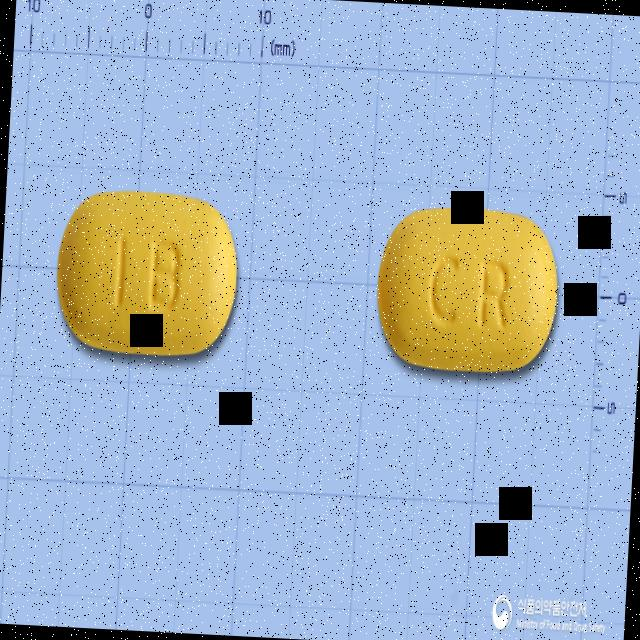Clacin -500mg: (371, 200, 568, 384), (52, 182, 246, 366)
